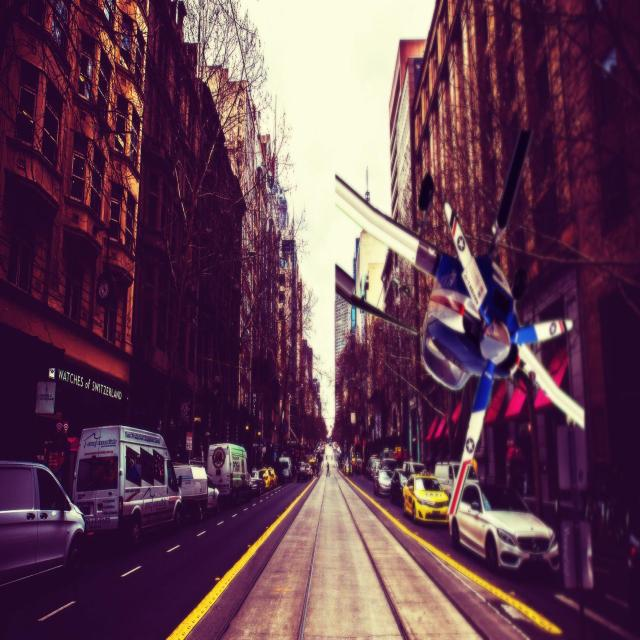airplane: (334, 127, 586, 523)
